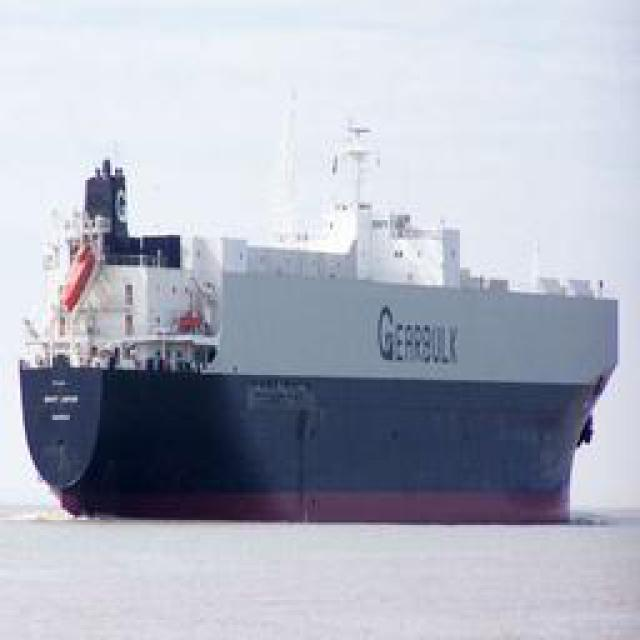Ship: (21, 88, 624, 523)
